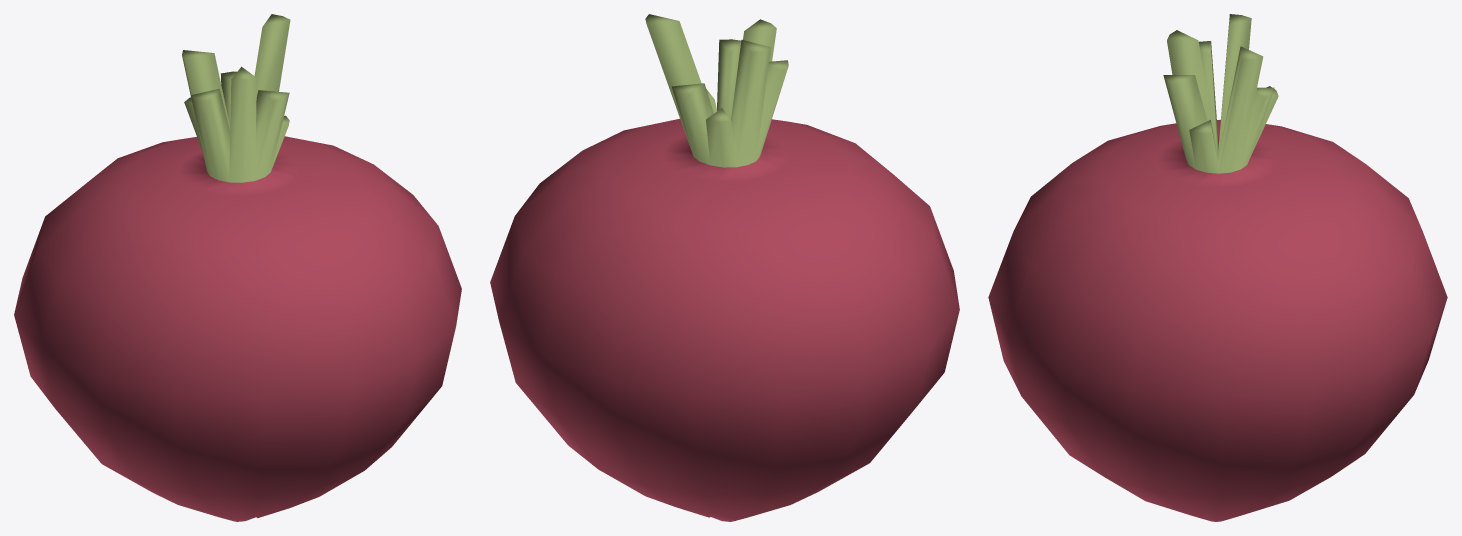
The model's file is Radish.fbx.
3 views of the same model, side by side, from view 1: azimuth 30°, elevation 25°; view 2: azimuth 150°, elevation 25°; view 3: azimuth 270°, elevation 25° (orthographic). The views are drawn at different scales.
Parts seen in each view (by area): view 1: Radish; view 2: Radish; view 3: Radish.
Part boxes in pixels (<box>): Radish: <box>14,14,461,521</box>; Radish: <box>490,14,959,521</box>; Radish: <box>988,14,1447,521</box>.
Size of the model in its own units: 93.75 by 108 by 92.14.
